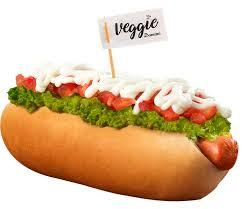Completos: (1, 53, 232, 201)
